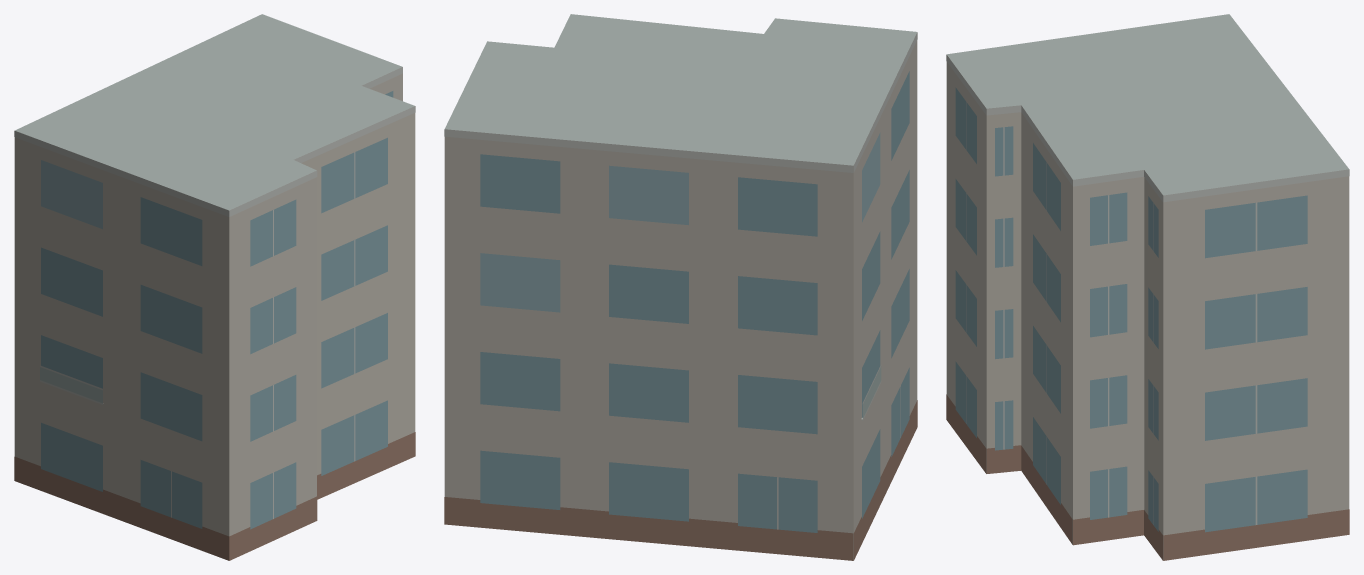
File: survey-upis-32749281.glb
3 renders of one model, left to right at view 1: azimuth 30°, elevation 25°; view 2: azimuth 150°, elevation 25°; view 3: azimuth 270°, elevation 25°, orthographic. The views are drawn at different scales.
Visible parts, largest first — view 1: survey-upis-32749281.tmp; view 2: survey-upis-32749281.tmp; view 3: survey-upis-32749281.tmp.
Boxes of the visible parts, box(x1,y1,x2,y2) form: survey-upis-32749281.tmp: box(14, 14, 415, 560); survey-upis-32749281.tmp: box(444, 14, 917, 560); survey-upis-32749281.tmp: box(946, 14, 1349, 560).
Bounding box in the file's own units: 13.86 × 13 × 13.
